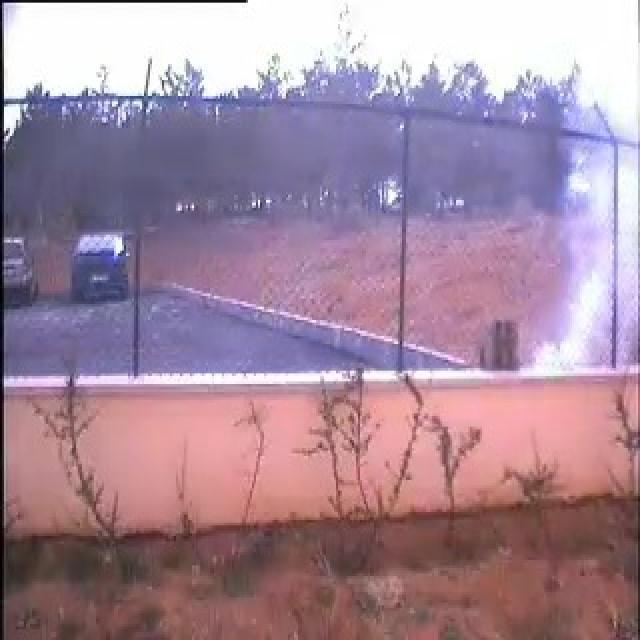Smoke: (518, 146, 622, 367)
